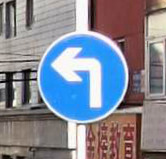left_turn: (36, 32, 129, 124)
